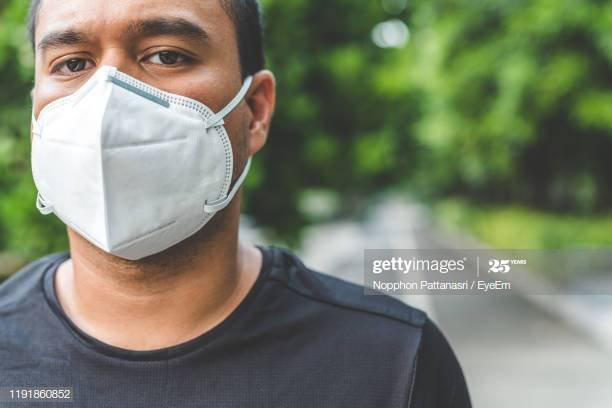mask: (8, 3, 283, 271)
